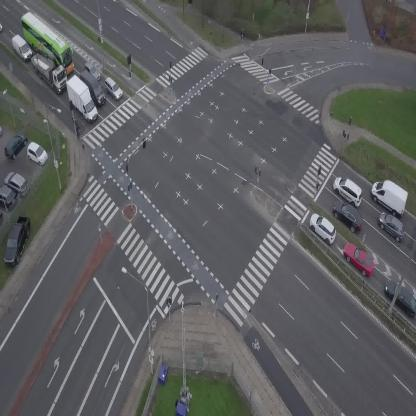bicycle: (237, 30, 246, 45), (74, 122, 81, 139)
bus: (12, 8, 83, 75)
car: (338, 237, 380, 281), (329, 197, 369, 236), (304, 209, 342, 247), (328, 173, 368, 208), (374, 208, 411, 243), (99, 75, 126, 103), (82, 59, 105, 81), (0, 23, 2, 31)
lorry: (20, 41, 75, 96), (365, 174, 415, 220), (61, 71, 100, 126), (76, 66, 109, 108), (7, 33, 36, 63)
